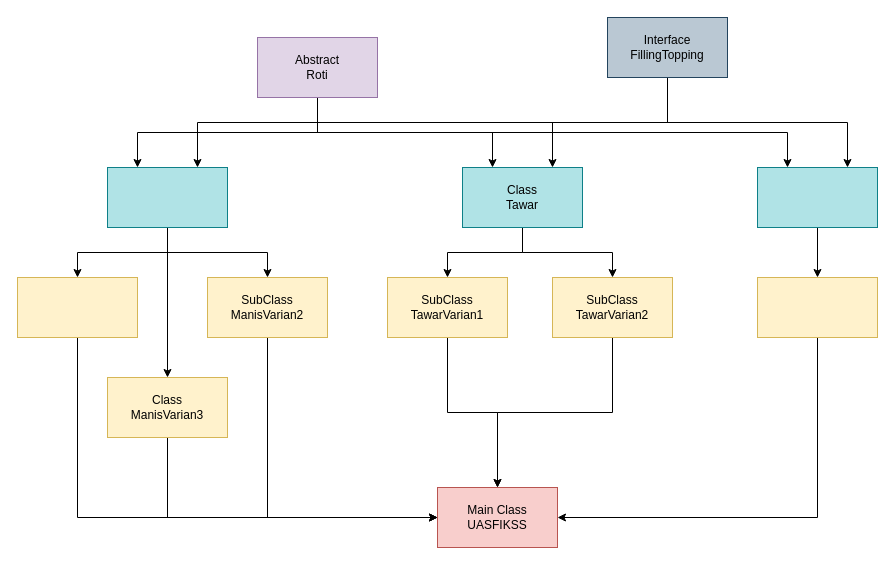
Some shapes in this 895 by 565 pixel diagram are drawn without their labels. Here are the shapes that lost their labels. From the top down, the centre of each, then its label:
At point 167,197: "Class Manis".
At point 817,197: "Class Pizza".
At point 77,307: "SubClass ManisVarian1".
At point 817,307: "SubClass PizzaVarian1".
